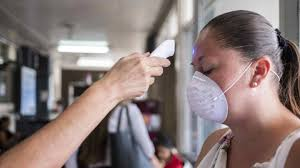with_mask: (185, 30, 274, 129)
